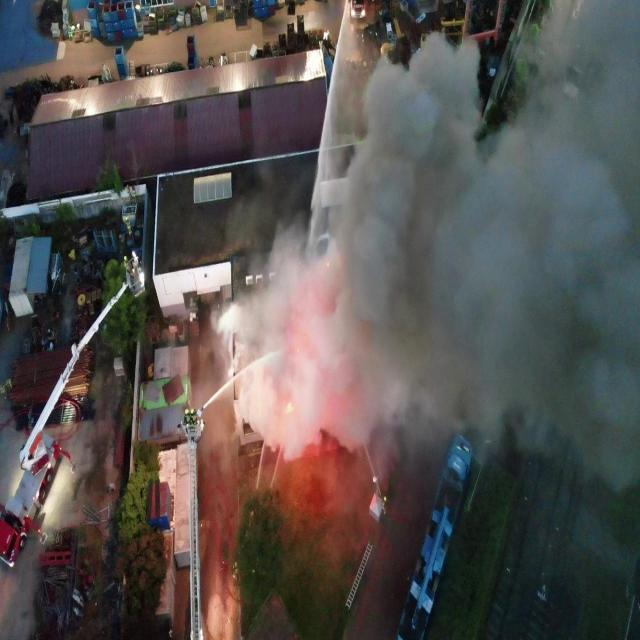Fire: (286, 402, 293, 413)
Smoke: (209, 0, 640, 498)
